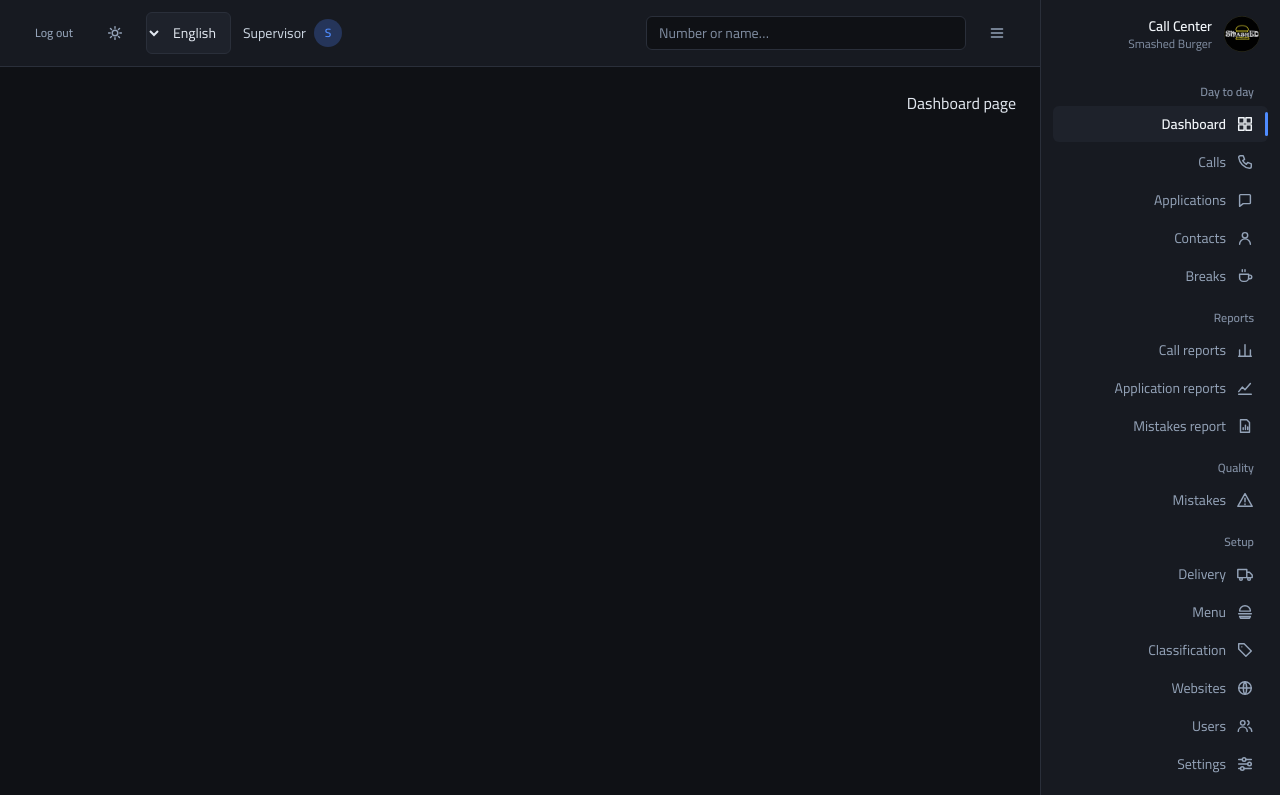
the header › finds a customer from any page on the Contacts page
The width and height of the screenshot is (1280, 795).
Type "0599123456" into the search field named "Find a customer" at (806, 33), box 646,16 -> 966,50
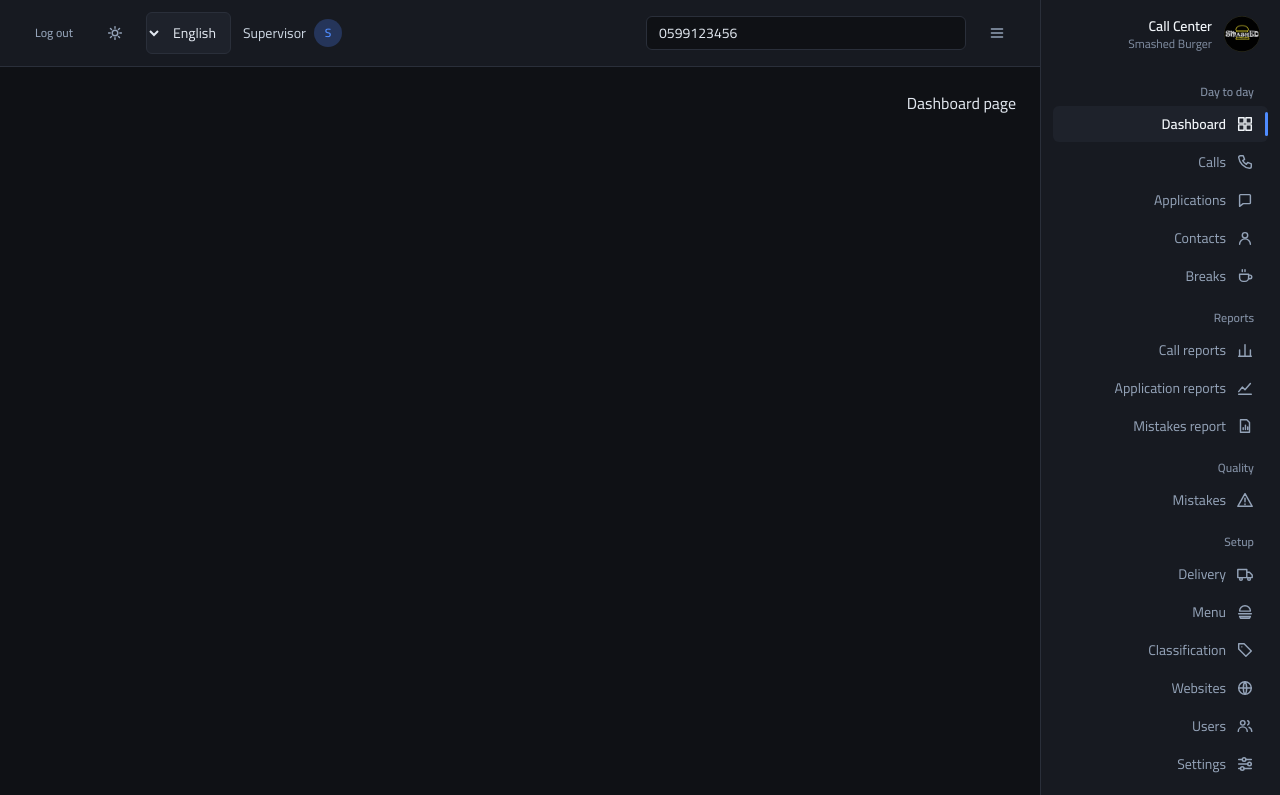
Submit the form, box 646,16 -> 966,50
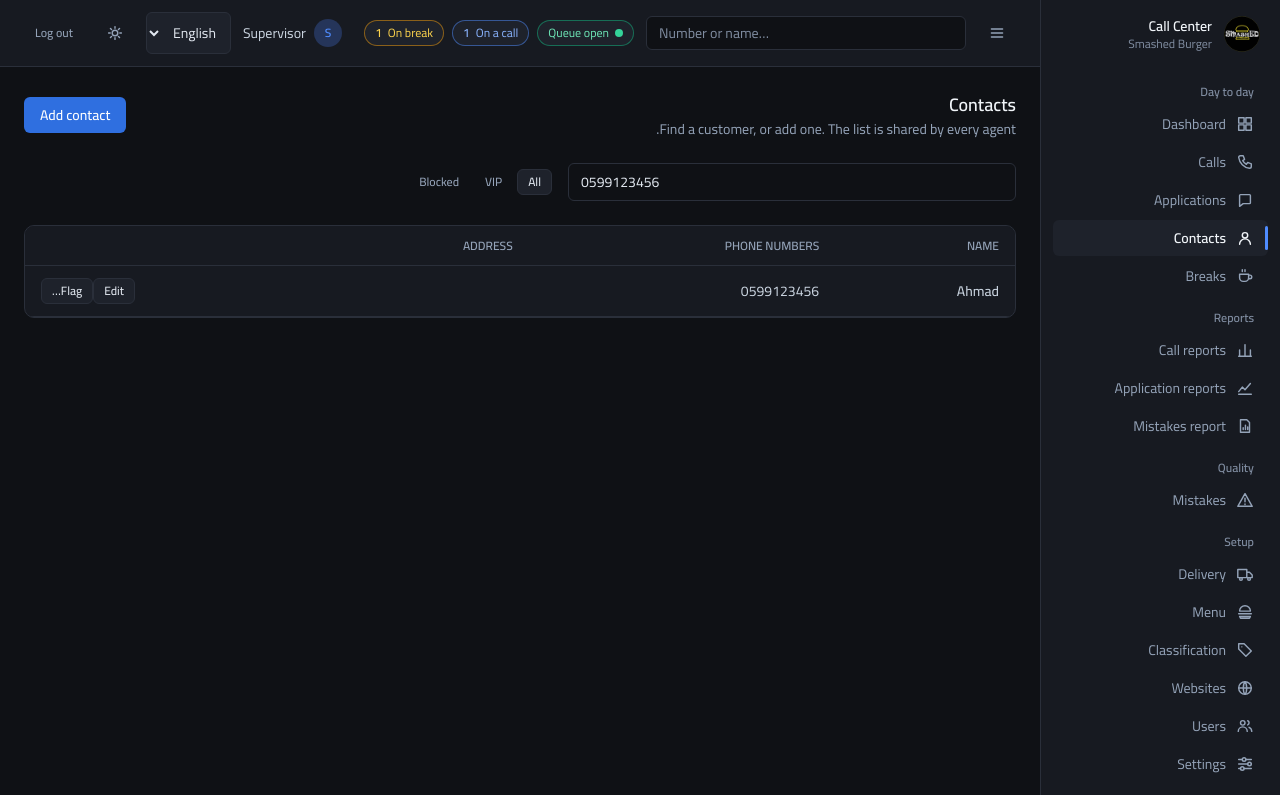
Result: the text "Ahmad" is shown at 835,266 -> 1015,316
Result: the search field named "Search" holds "0599123456" at 568,163 -> 1016,201
